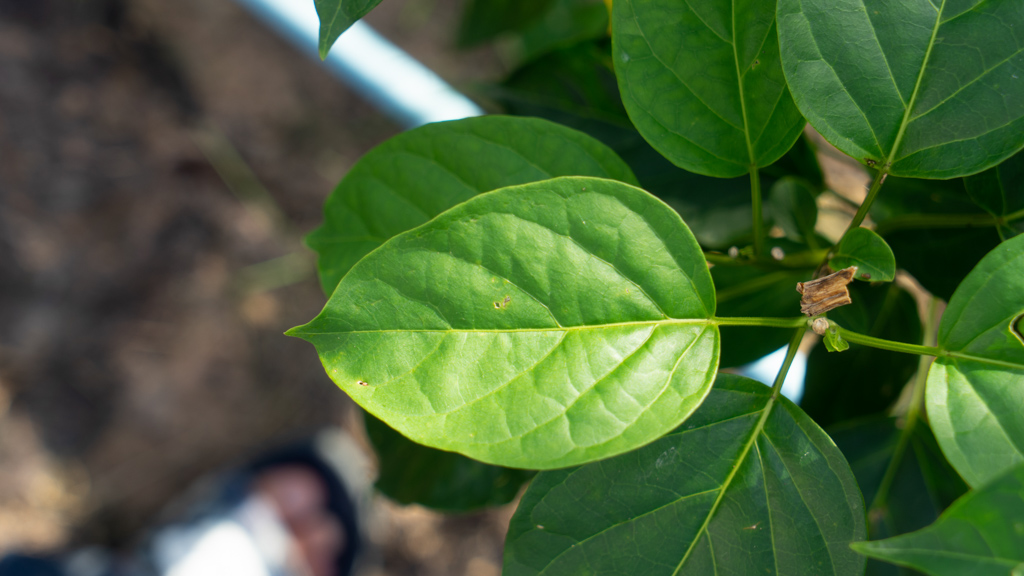frog-eye leafspot: (482, 285, 526, 319), (351, 370, 368, 397)
